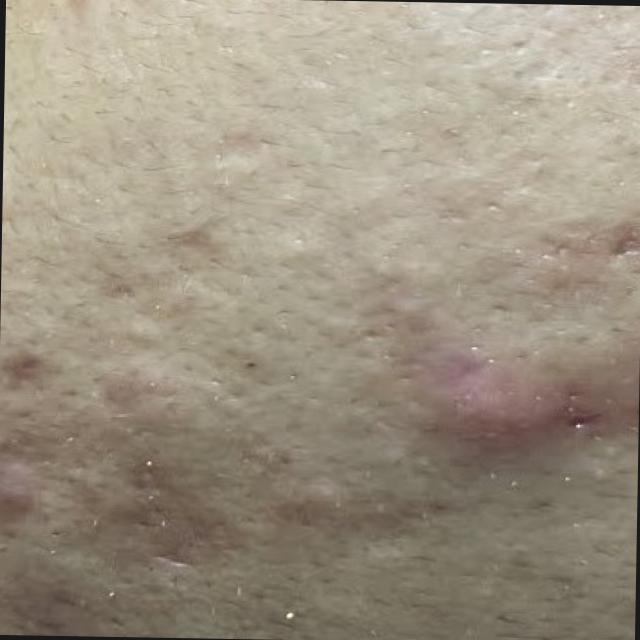nodule: (443, 376, 564, 450)
